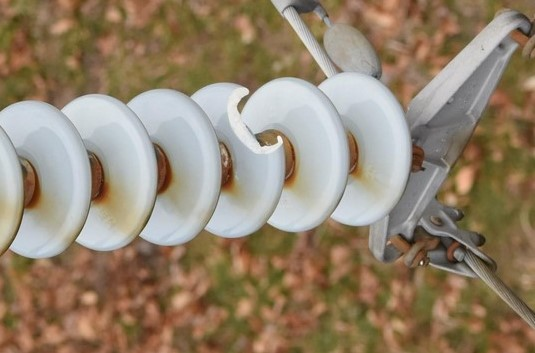insulator breakage: (188, 75, 286, 244)
